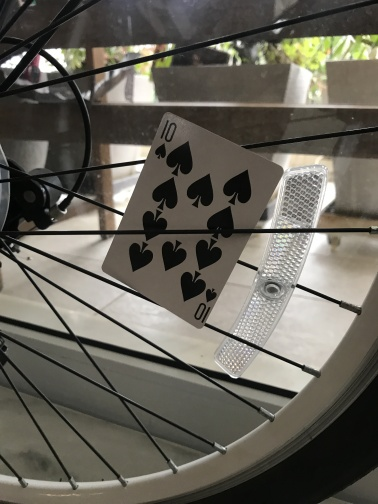ten: (100, 111, 286, 330)
